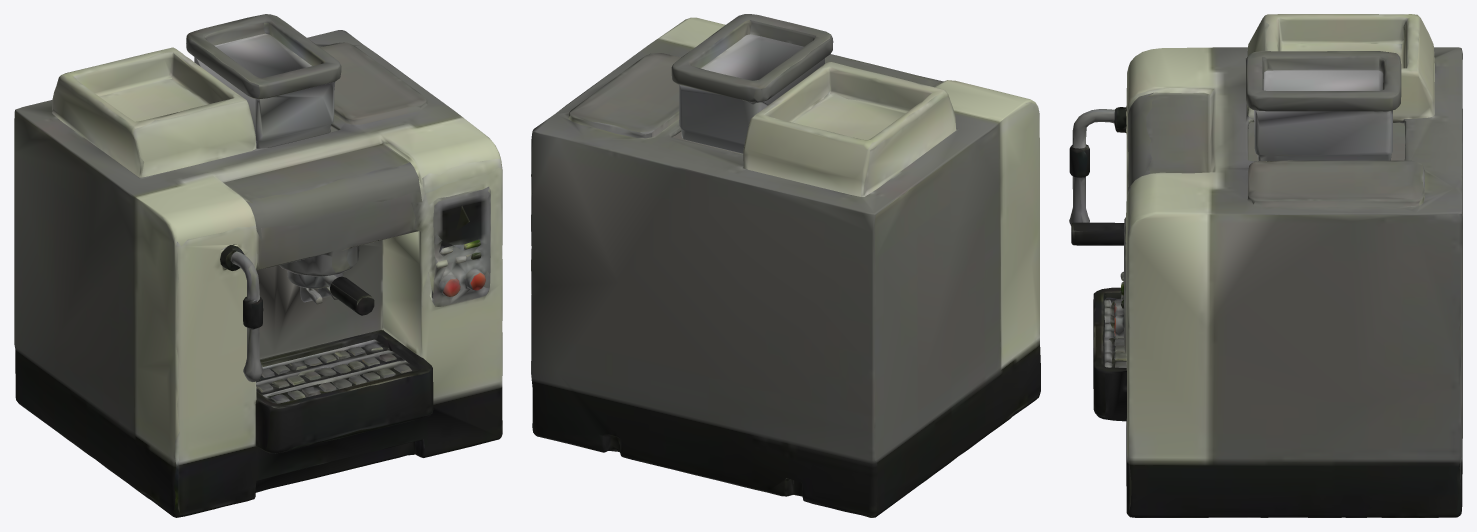
The model's file is coffee_machine.glb.
3 renders of one model, left to right at view 1: azimuth 30°, elevation 25°; view 2: azimuth 150°, elevation 25°; view 3: azimuth 270°, elevation 25°, orthographic. The views are drawn at different scales.
Visible parts, largest first — view 1: geometry_0; view 2: geometry_0; view 3: geometry_0.
Boxes of the visible parts, <box> form: geometry_0: <box>14,14,502,517</box>; geometry_0: <box>531,14,1040,517</box>; geometry_0: <box>1069,14,1462,517</box>.
Size of the model in its own units: 0.9692 by 1 by 0.9604.
Materials: 1 (1 with a texture image).
